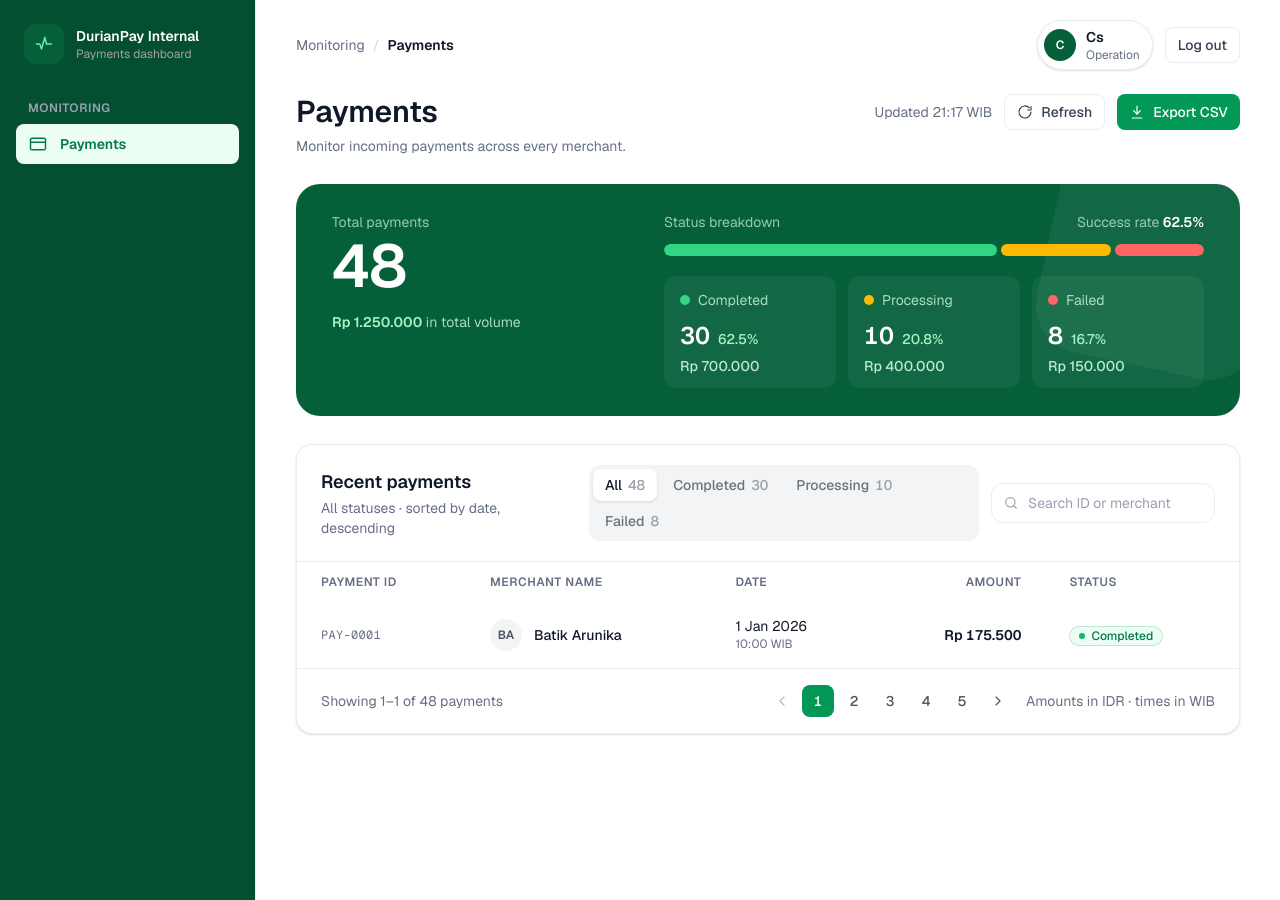
Test: DashboardContainer › toasts 'Nothing to export' when no rows match the filter
Check: the text "Batik Arunika" is shown, box top-left (534, 625), bottom-right (622, 645)
Click the button "Export CSV" at [1179, 112], box top-left (1117, 94), bottom-right (1240, 130)
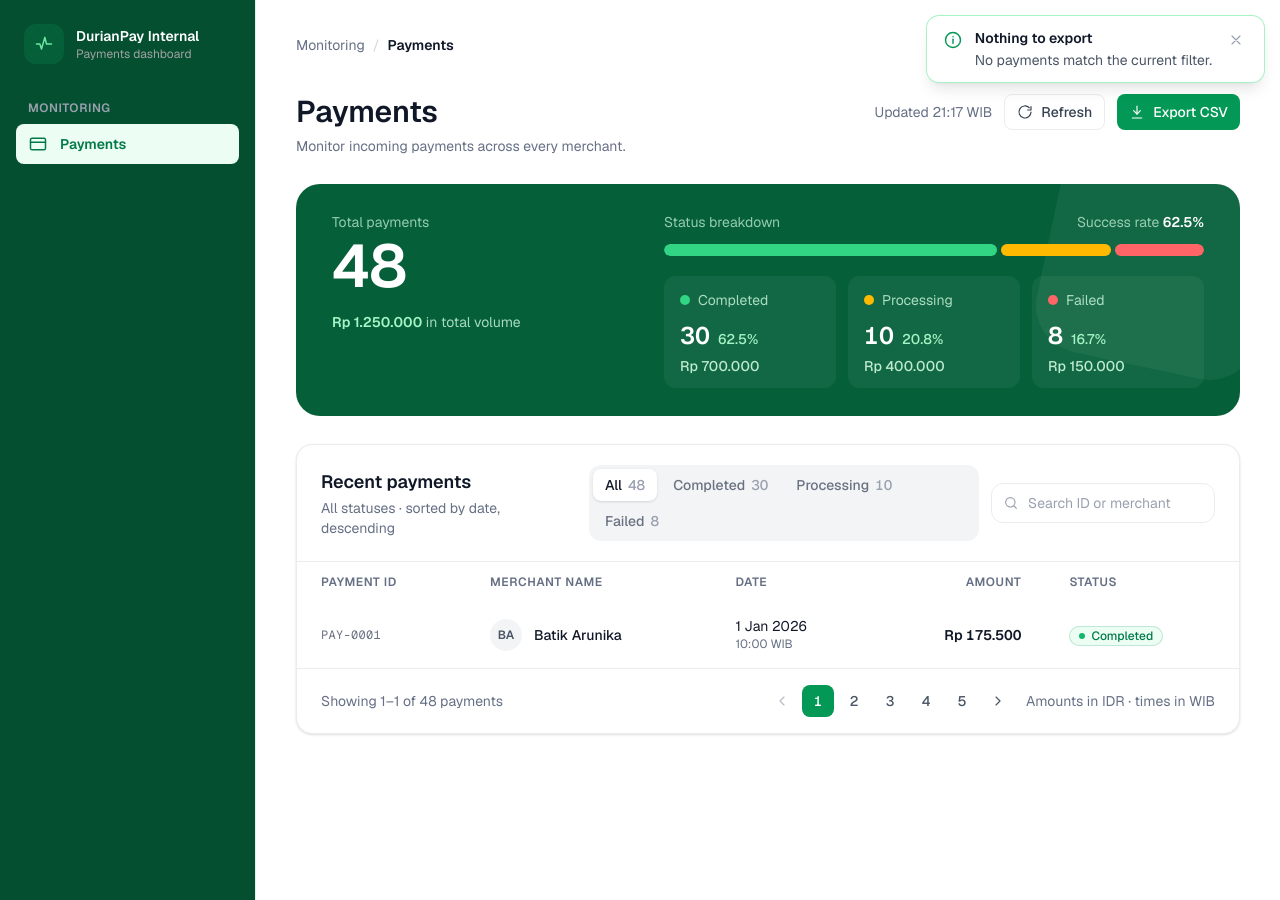
Check: the text "Nothing to export" is shown, box top-left (975, 29), bottom-right (1093, 47)
